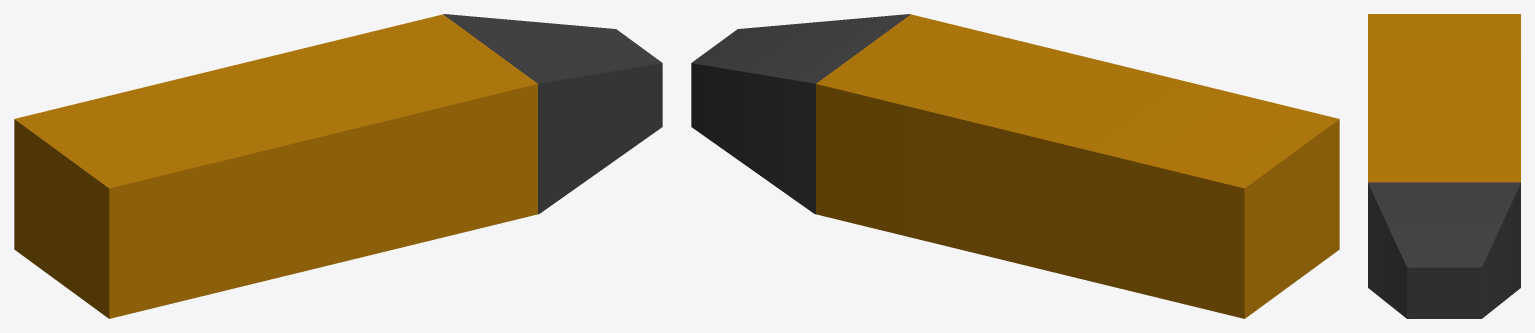
File: Bullet_Model.fbx
3 renders of one model, left to right at view 1: azimuth 30°, elevation 25°; view 2: azimuth 150°, elevation 25°; view 3: azimuth 270°, elevation 25°, orthographic. The views are drawn at different scales.
Visible parts, largest first — view 1: pCube2; view 2: pCube2; view 3: pCube2.
Boxes of the visible parts, x1,y1,x2,y2 form: pCube2: (14, 14, 662, 318); pCube2: (691, 14, 1339, 318); pCube2: (1368, 14, 1520, 318).
Size of the model in its own units: 0.6657 by 0.1436 by 0.1896.
1 material, 1 textured.
